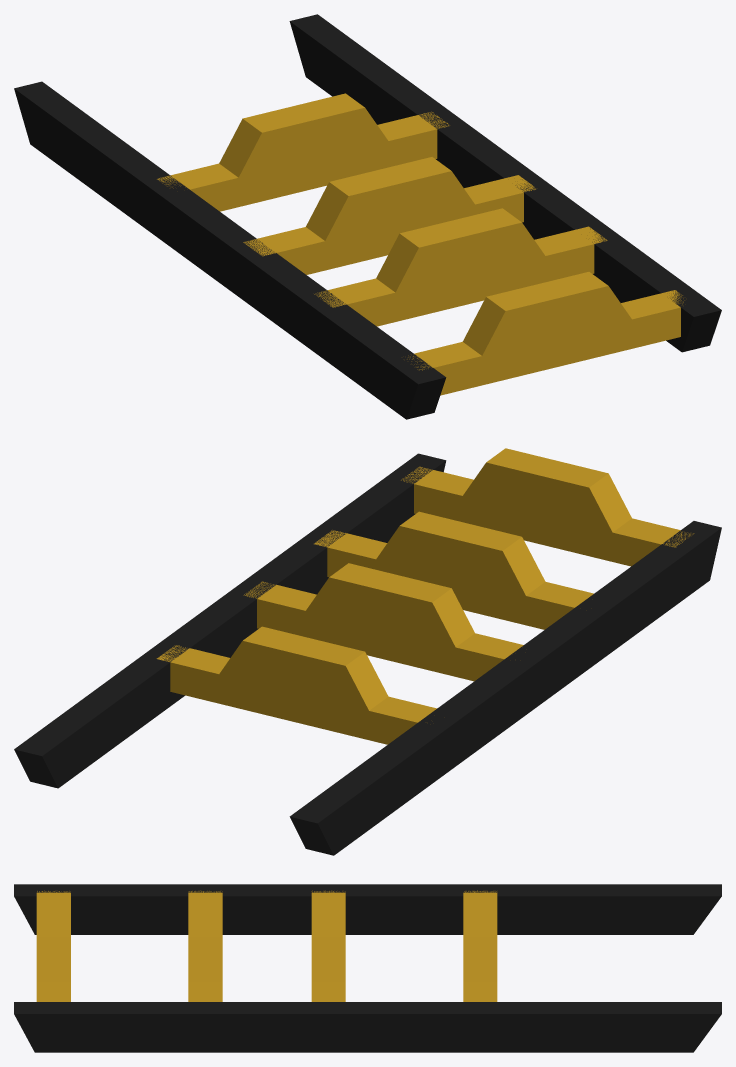
The model's file is md40_cradle.obj.
3 renders of one model, top to bottom at view 1: azimuth 30°, elevation 25°; view 2: azimuth 150°, elevation 25°; view 3: azimuth 270°, elevation 25°, orthographic. The views are drawn at different scales.
Parts seen in each view (by area): view 1: md40_cradle; view 2: md40_cradle; view 3: md40_cradle.
Part boxes in pixels (x1,y1,x2,y2): md40_cradle: (14, 14, 721, 419); md40_cradle: (14, 448, 721, 855); md40_cradle: (14, 884, 721, 1052).
Size of the model in its own units: 3.24 by 0.85 by 7.47.
